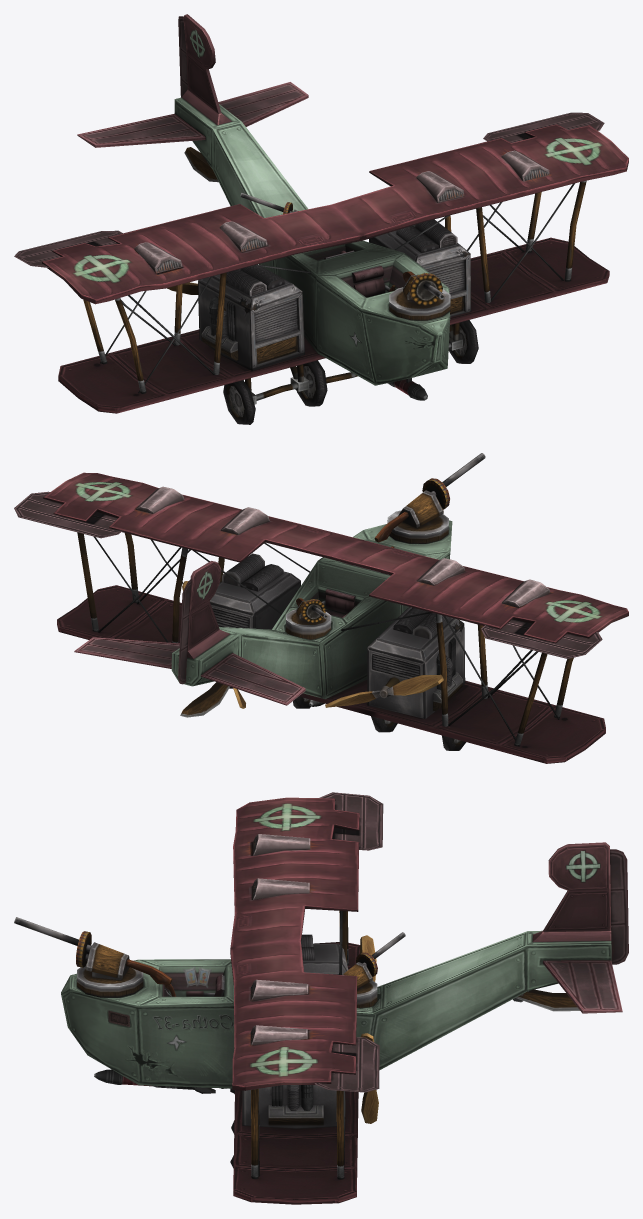
The model's file is bomber2.glb.
3 renders of one model, top to bottom at view 1: azimuth 30°, elevation 25°; view 2: azimuth 150°, elevation 25°; view 3: azimuth 270°, elevation 25°, orthographic. The views are drawn at different scales.
Parts seen in each view (by area): view 1: Plane; view 2: Plane, AirplaneEngine1; view 3: Plane, AirplaneEngine0.
Part boxes in pixels (x1,y1,x2,y2): Plane: [14, 14, 628, 424]; Plane: [14, 453, 628, 763]; AirplaneEngine1: [325, 674, 443, 707]; Plane: [14, 792, 628, 1204]; AirplaneEngine0: [361, 1033, 378, 1123].
Size of the model in its own units: 360 by 162 by 309.
Materials: 1 (1 with a texture image).
